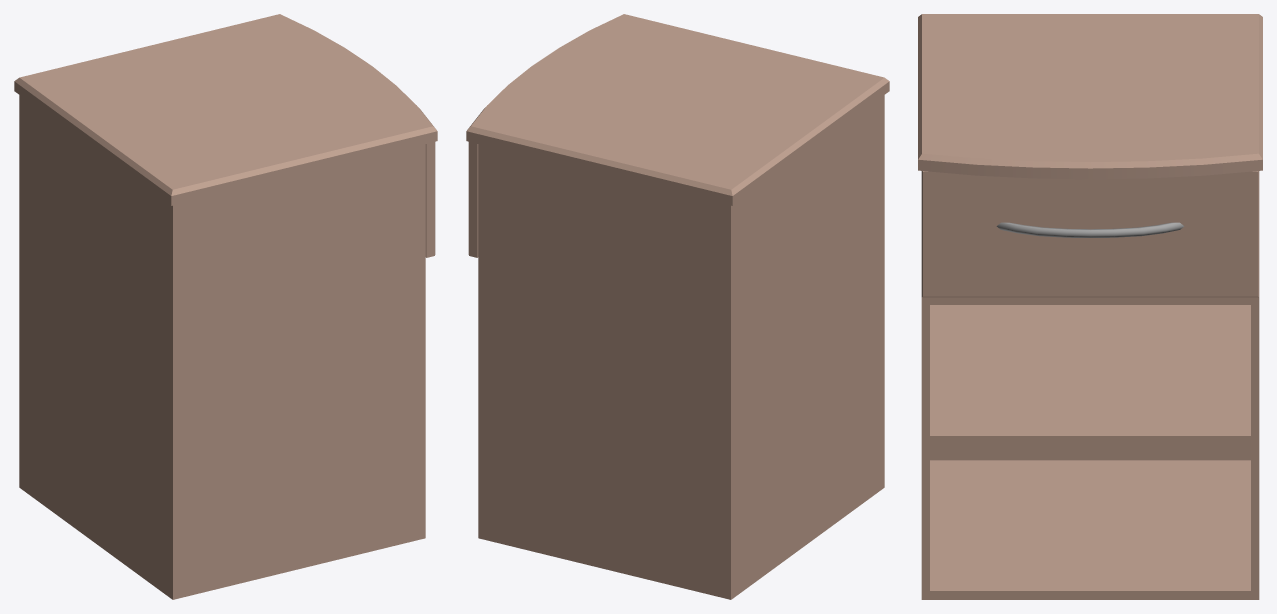
File: Nightstand_v2.fbx
3 views of the same model, side by side, from view 1: azimuth 30°, elevation 25°; view 2: azimuth 150°, elevation 25°; view 3: azimuth 270°, elevation 25° (orthographic). The views are drawn at different scales.
Visible parts, largest first — view 1: Roon2_Nightstand, Drawer; view 2: Roon2_Nightstand, Drawer; view 3: Roon2_Nightstand, Shelf, Drawer.
Part boxes in pixels (x1,y1,x2,y2): Roon2_Nightstand: [14, 14, 437, 599]; Drawer: [425, 142, 435, 257]; Roon2_Nightstand: [466, 14, 889, 599]; Drawer: [468, 142, 478, 257]; Roon2_Nightstand: [918, 14, 1262, 599]; Shelf: [930, 305, 1250, 444]; Drawer: [921, 171, 1259, 297].
Bounding box in the file's own units: 62.53 × 86.48 × 60.02.
